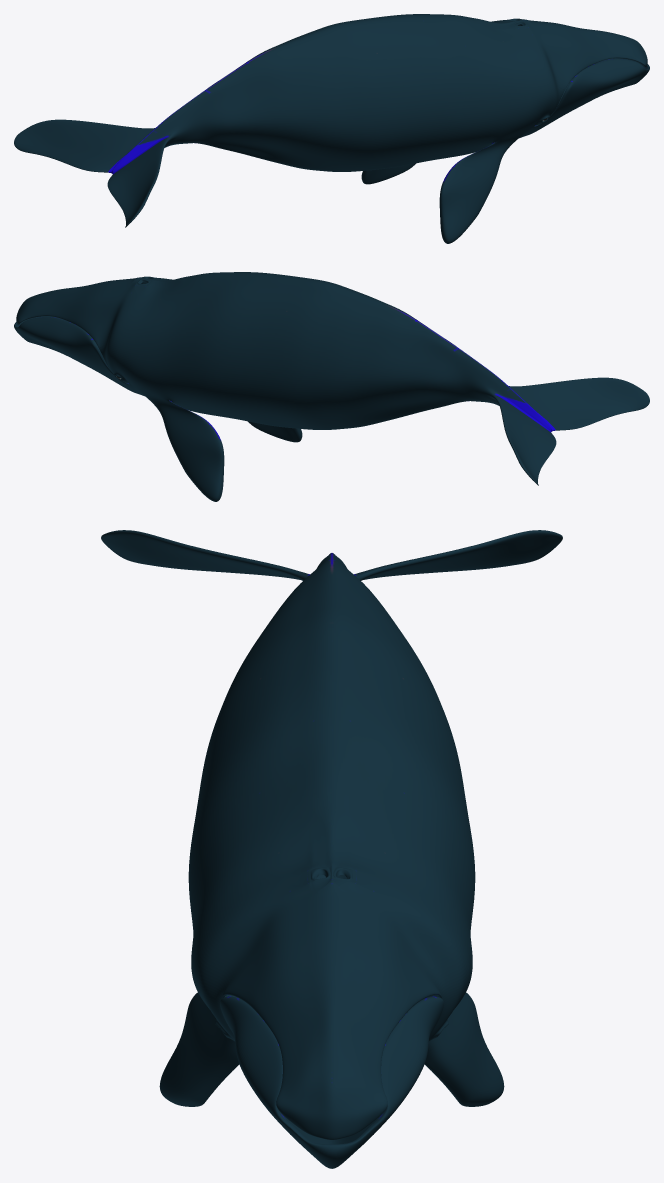
Rendered from 8.FrancaAustralSur.glb.
3 views of the same model, one above another, from view 1: azimuth 30°, elevation 25°; view 2: azimuth 150°, elevation 25°; view 3: azimuth 270°, elevation 25° (orthographic). The views are drawn at different scales.
Parts seen in each view (by area): view 1: Cube; view 2: Cube; view 3: Cube.
Boxes of the visible parts, x1=… form: Cube: x1=14, y1=14, x2=649, y2=243; Cube: x1=14, y1=272, x2=649, y2=501; Cube: x1=101, y1=530, x2=562, y2=1168.
Size of the model in its own units: 8.13 by 2.77 by 2.81.
2 materials, 2 textured.
